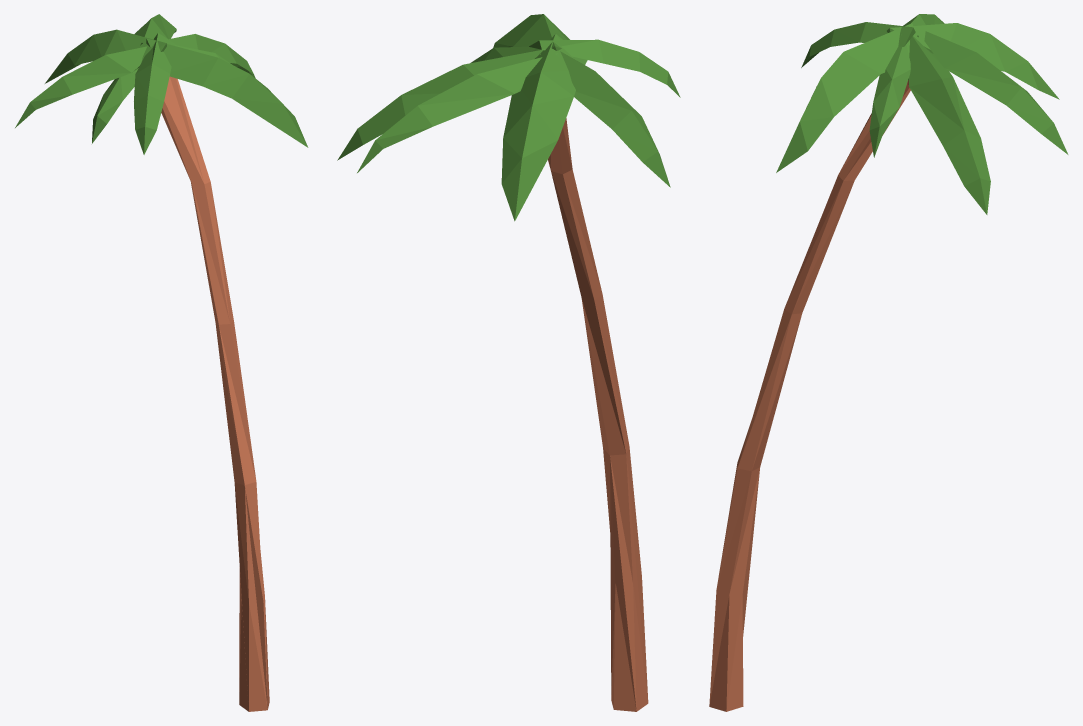
File: Tree_10_summer_mat.fbx
The picture shows the model from 3 angles, left to right: view 1: azimuth 30°, elevation 25°; view 2: azimuth 150°, elevation 25°; view 3: azimuth 270°, elevation 25°; orthographic projection. The views are drawn at different scales.
Visible parts, largest first — view 1: Tree_10_summer_mat; view 2: Tree_10_summer_mat; view 3: Tree_10_summer_mat.
Part boxes in pixels (x1,y1,x2,y2): Tree_10_summer_mat: [15, 14, 308, 711]; Tree_10_summer_mat: [337, 14, 680, 711]; Tree_10_summer_mat: [709, 14, 1068, 711].
Size of the model in its own units: 3.56 by 8.06 by 3.91.
